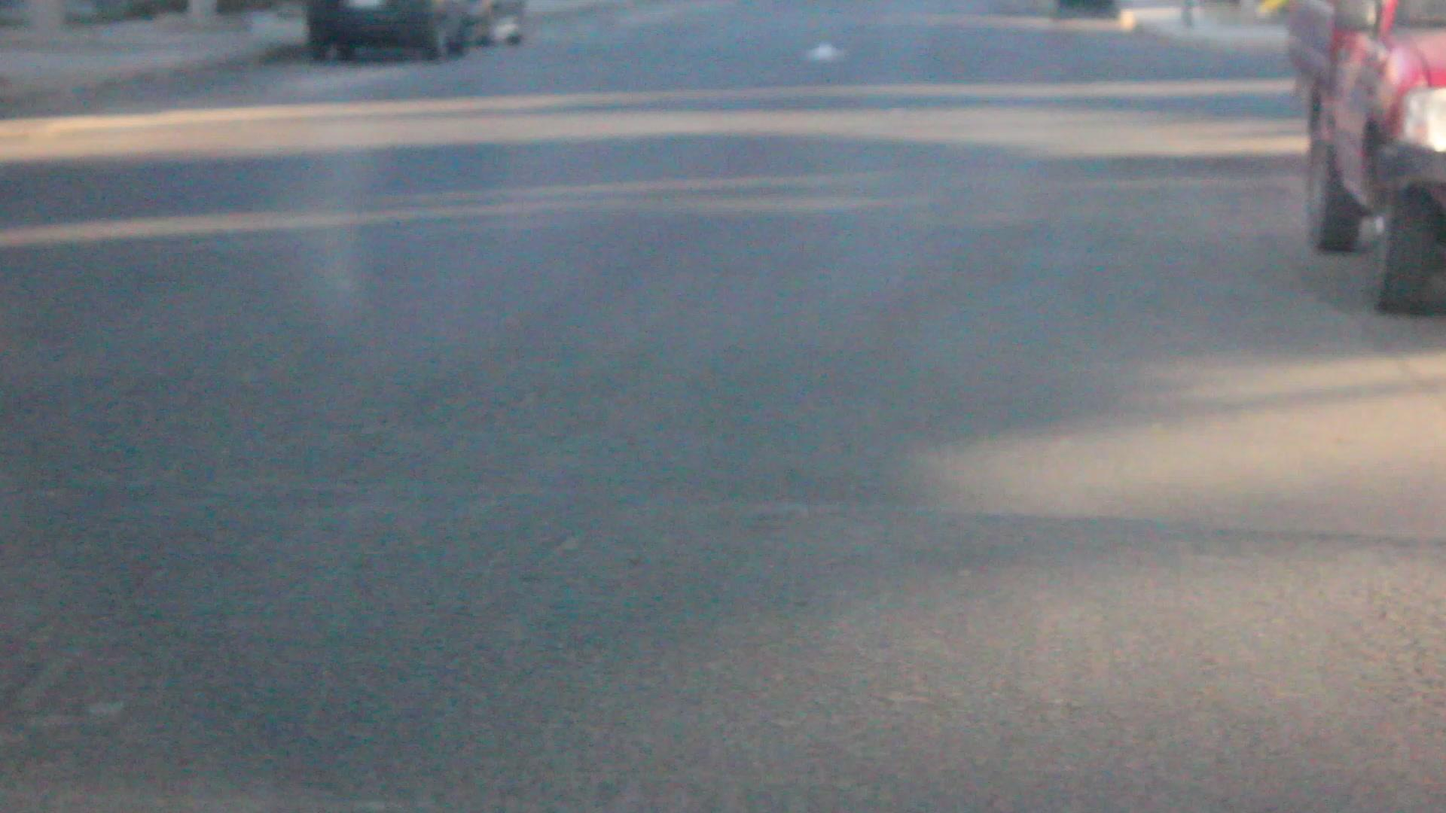Bump: (6, 461, 1445, 812)
